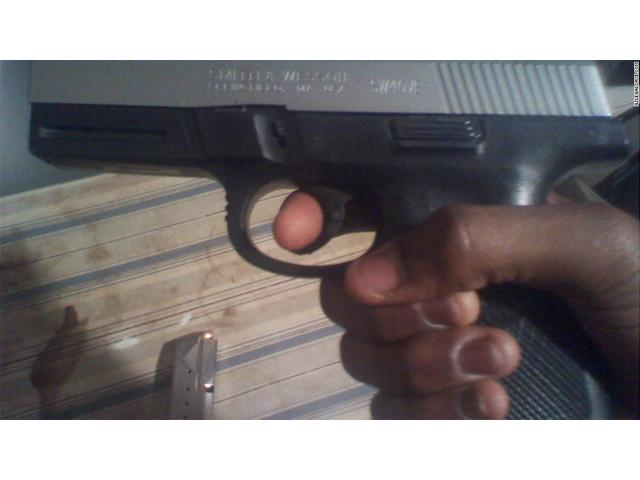pistol: (28, 62, 625, 420)
